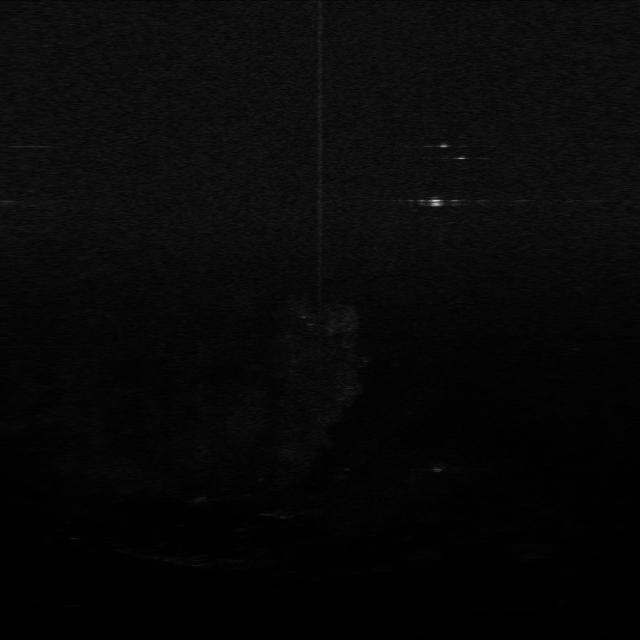rov: (423, 193, 447, 211)
